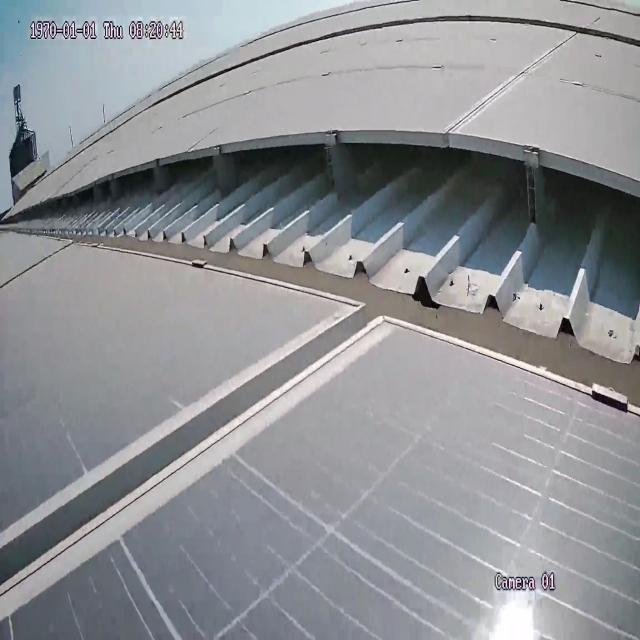interior panel: (427, 23, 587, 140), (0, 238, 74, 299)
outher panel: (0, 140, 640, 420), (30, 11, 640, 187)
